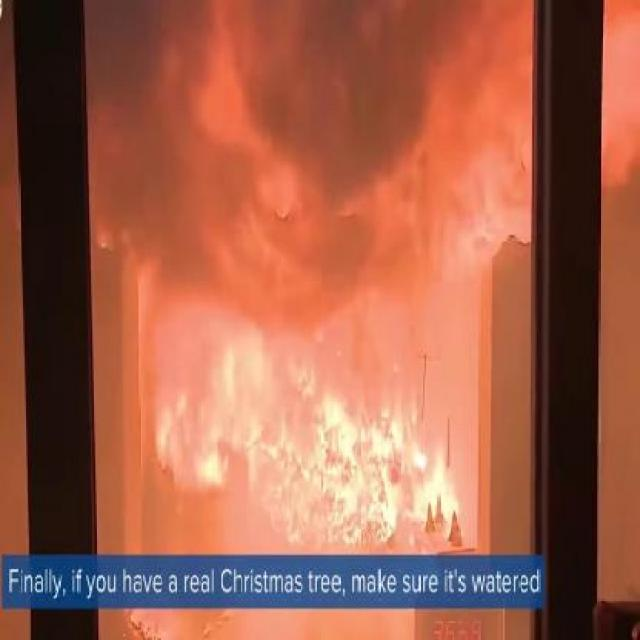fire: (178, 362, 448, 541)
smoke: (323, 7, 402, 155), (88, 0, 157, 89)
